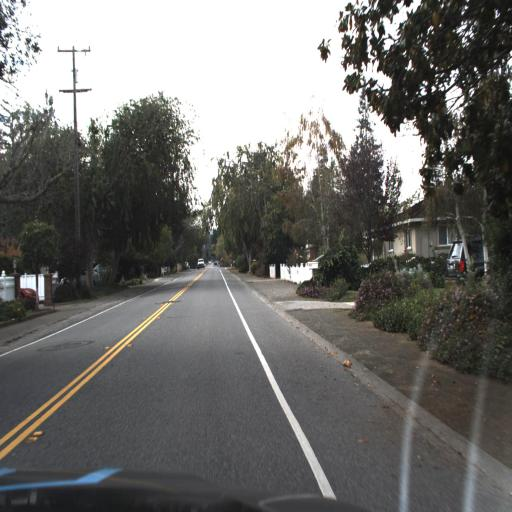car: (446, 239, 512, 290), (0, 280, 40, 305), (197, 258, 205, 270)
